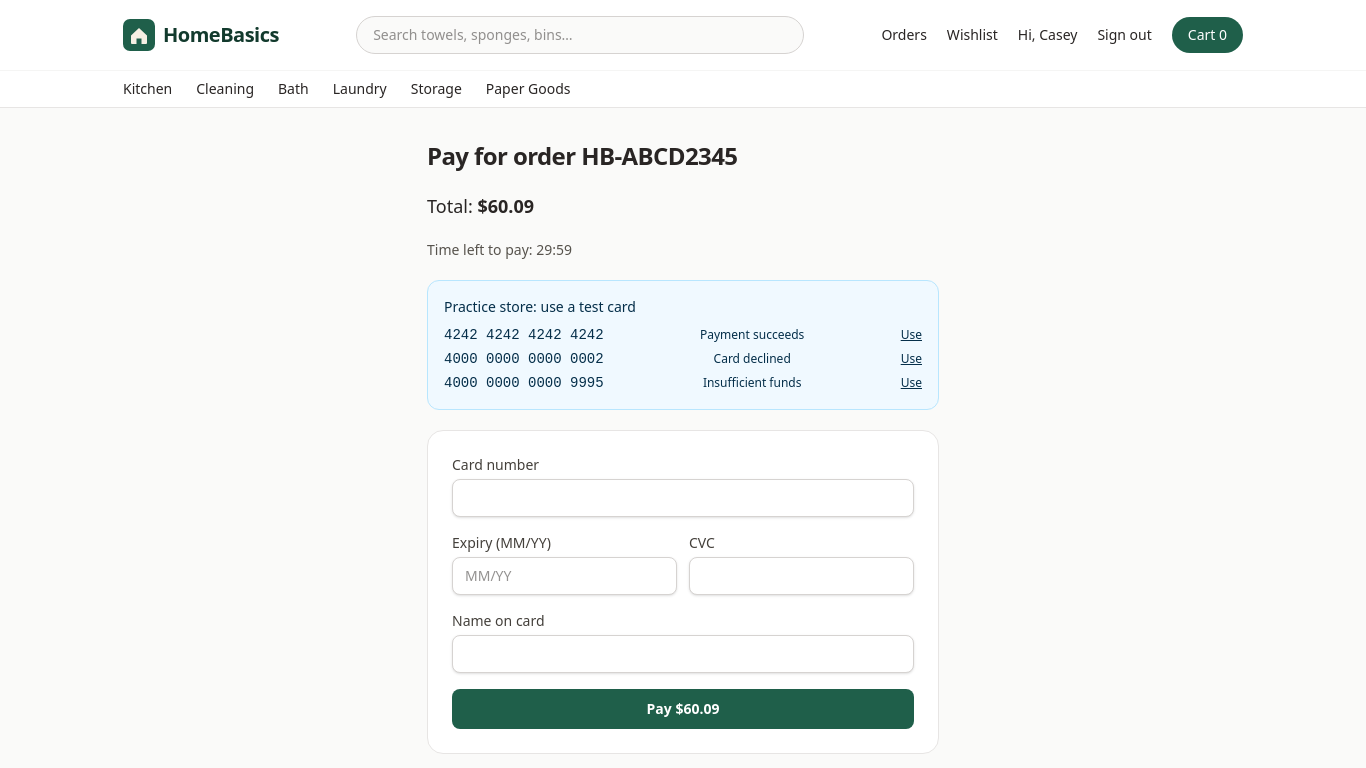
Scenario: PayPage › a test card can be filled with one click
Click the button with test id "use-card-0002" at (911, 359), box [901,351,922,367]
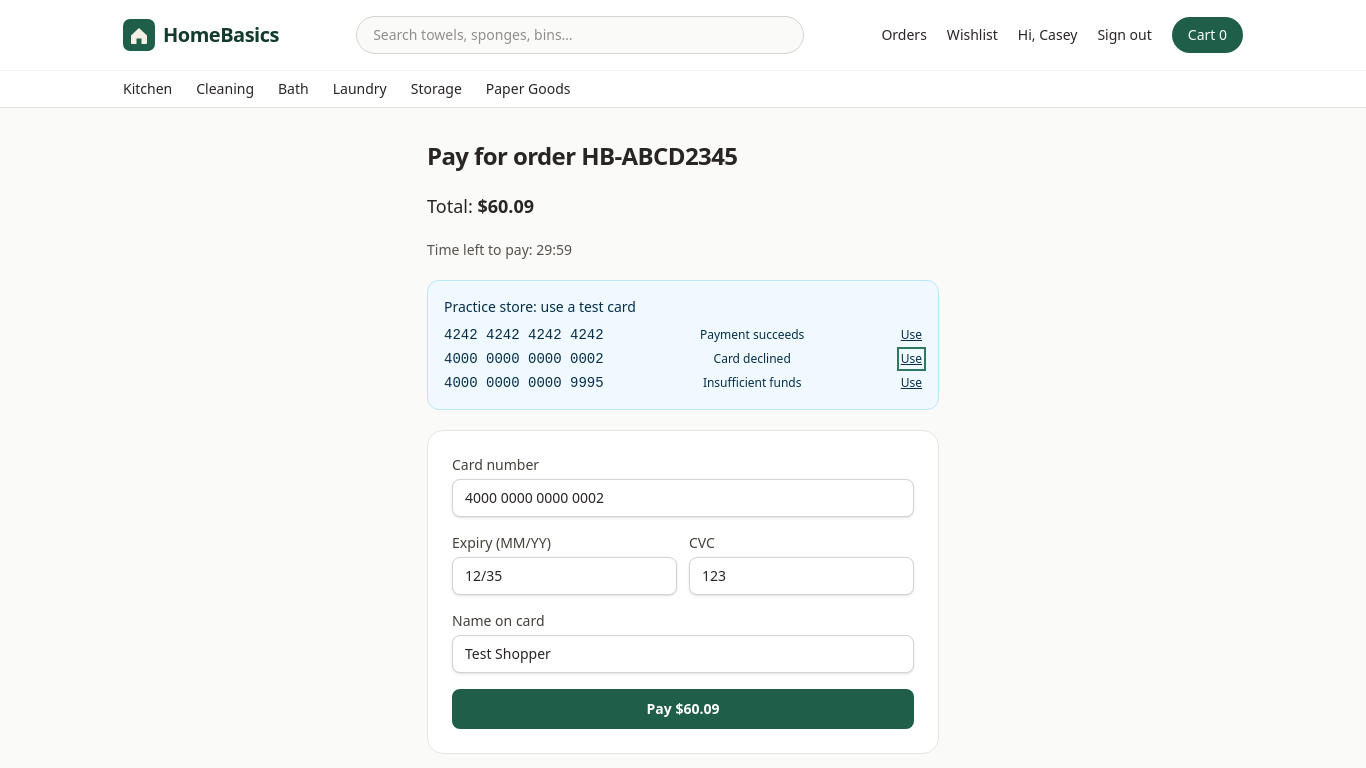
Now the field with test id "card-number" holds "4000 0000 0000 0002", box [452,479,914,517]
